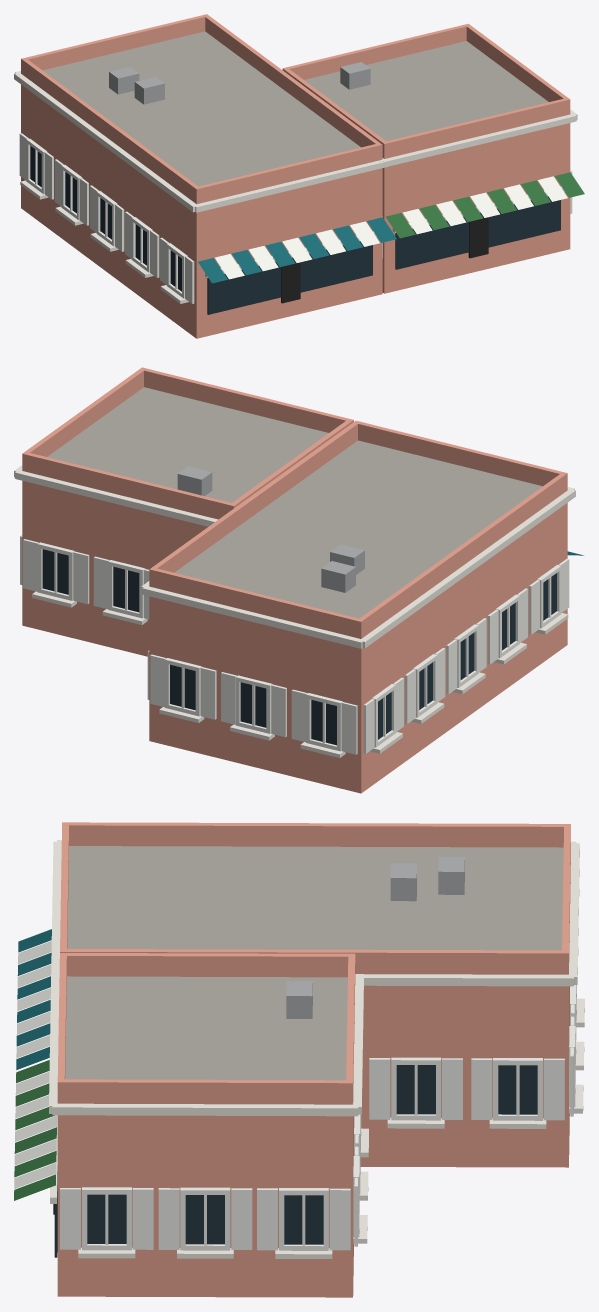
3 views of the same model, one above another, from view 1: azimuth 30°, elevation 25°; view 2: azimuth 150°, elevation 25°; view 3: azimuth 270°, elevation 25° (orthographic). The views are drawn at different scales.
Parts seen in each view (by area): view 1: b1004; view 2: b1004; view 3: b1004.
Part boxes in pixels (x1,y1,x2,y2): b1004: [14, 14, 584, 338]; b1004: [14, 367, 583, 793]; b1004: [14, 822, 584, 1297].
Size of the model in its own units: 7377 by 2734 by 6527.
